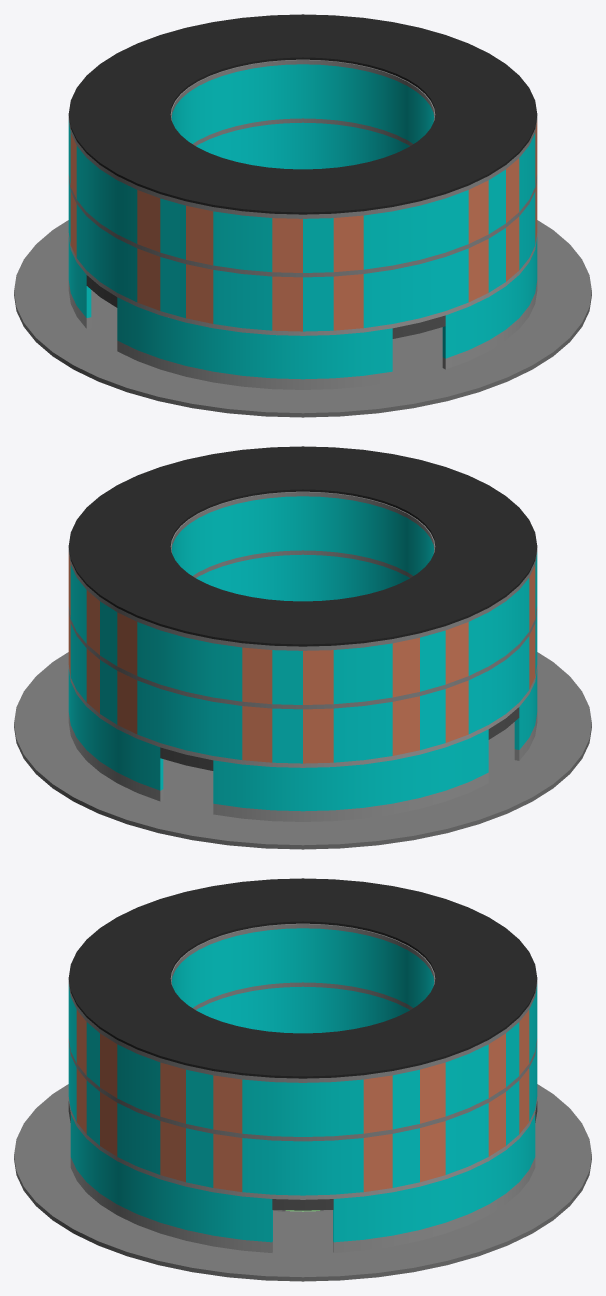
Rendered from Popov.fbx.
3 views of the same model, one above another, from view 1: azimuth 30°, elevation 25°; view 2: azimuth 150°, elevation 25°; view 3: azimuth 270°, elevation 25° (orthographic).
Parts seen in each view (by area): view 1: Cylinder.001; view 2: Cylinder.001; view 3: Cylinder.001.
Part boxes in pixels (bbox=[...]): Cylinder.001: bbox=[14, 14, 591, 417]; Cylinder.001: bbox=[14, 446, 591, 849]; Cylinder.001: bbox=[14, 878, 591, 1281].
Size of the model in its own units: 24186 by 8400 by 24186.
